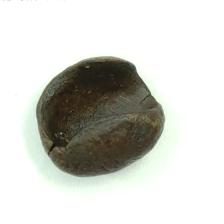NG: (40, 58, 156, 148)
